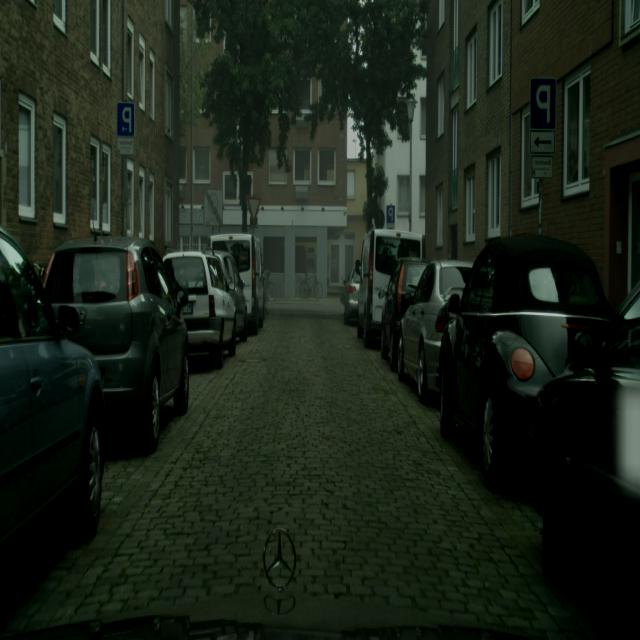car: (298, 272, 323, 299)
truck: (437, 233, 613, 489), (0, 226, 107, 581), (527, 278, 639, 612), (41, 233, 191, 452), (398, 258, 474, 404), (164, 249, 237, 369), (357, 227, 426, 346), (379, 258, 428, 371), (212, 232, 265, 334), (212, 247, 248, 342), (341, 259, 361, 325)
